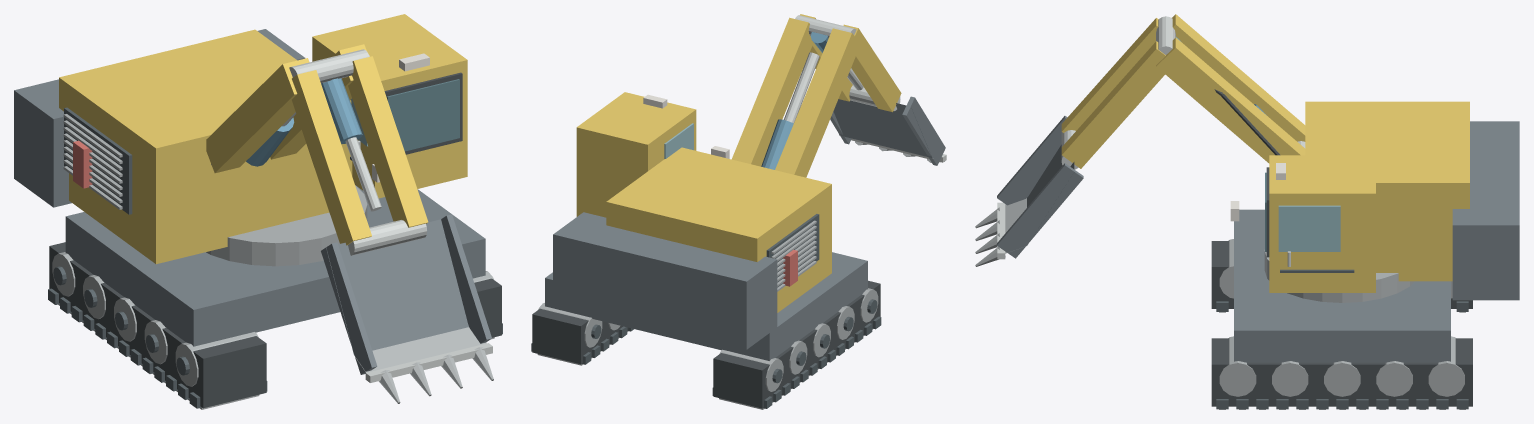
Rendered from excavator.glb.
3 renders of one model, left to right at view 1: azimuth 30°, elevation 25°; view 2: azimuth 150°, elevation 25°; view 3: azimuth 270°, elevation 25°, orthographic. The views are drawn at different scales.
Parts seen in each view (by area): view 1: Machinery house side panels, Undercarriage steel chassis, Stick and dipper arm (×2), Rock bucket curved back, Operator cab steel shell, Crawler track rubber belt (×2), Rear counterweight, Welded tapered lifting boom (×2), Bucket sidewall (×2), Slew ring, Tinted laminated windshield, Track road wheel (×5) (+10 smaller); view 2: Rear counterweight, Machinery house side panels, Welded tapered lifting boom (×2), Operator cab steel shell, Crawler track rubber belt (×2), Undercarriage steel chassis, Rock bucket curved back, Track road wheel (×6), Stick and dipper arm, Bucket sidewall, Boom polished ram, Ventilation panel (+4 smaller); view 3: Machinery house side panels, Undercarriage steel chassis, Operator cab steel shell, Rear counterweight, Welded tapered lifting boom (×2), Crawler track rubber belt (×2), Stick and dipper arm (×2), Track road wheel (×6), Bucket sidewall (×2), Cab side window, Slew ring, Rock bucket curved back (+1 smaller).
Boxes of the visible parts, bbox=[...] form: Machinery house side panels: bbox=[59, 29, 352, 264]; Undercarriage steel chassis: bbox=[65, 186, 485, 346]; Stick and dipper arm (×2): bbox=[292, 56, 428, 245]; Rock bucket curved back: bbox=[326, 219, 468, 354]; Operator cab steel shell: bbox=[312, 14, 467, 198]; Crawler track rubber belt (×2): bbox=[49, 242, 501, 408]; Rear counterweight: bbox=[14, 29, 305, 207]; Welded tapered lifting boom (×2): bbox=[206, 44, 366, 173]; Bucket sidewall (×2): bbox=[321, 214, 491, 374]; Slew ring: bbox=[206, 185, 367, 266]; Tinted laminated windshield: bbox=[387, 79, 459, 151]; Track road wheel (×5): bbox=[52, 252, 258, 386]; Rear counterweight: bbox=[553, 212, 777, 349]; Machinery house side panels: bbox=[606, 147, 831, 312]; Welded tapered lifting boom (×2): bbox=[731, 17, 860, 177]; Operator cab steel shell: bbox=[576, 92, 696, 217]; Crawler track rubber belt (×2): bbox=[532, 280, 880, 408]; Undercarriage steel chassis: bbox=[545, 252, 867, 360]; Rock bucket curved back: bbox=[833, 99, 931, 157]; Track road wheel (×6): bbox=[538, 288, 878, 391]; Stick and dipper arm: bbox=[843, 24, 901, 112]; Bucket sidewall: bbox=[902, 96, 945, 165]; Boom polished ram: bbox=[783, 52, 819, 123]; Ventilation panel: bbox=[766, 214, 819, 287]; Machinery house side panels: bbox=[1305, 101, 1469, 281]; Undercarriage steel chassis: bbox=[1234, 209, 1450, 362]; Operator cab steel shell: bbox=[1269, 155, 1375, 292]; Rear counterweight: bbox=[1452, 121, 1519, 300]; Welded tapered lifting boom (×2): bbox=[1156, 14, 1305, 163]; Crawler track rubber belt (×2): bbox=[1211, 241, 1472, 406]; Stick and dipper arm (×2): bbox=[1061, 18, 1165, 168]; Track road wheel (×6): bbox=[1219, 239, 1464, 396]; Bucket sidewall (×2): bbox=[997, 116, 1083, 258]; Cab side window: bbox=[1278, 205, 1340, 251]; Slew ring: bbox=[1264, 250, 1414, 302]; Rock bucket curved back: bbox=[1027, 144, 1074, 245].
Bounding box in the file's own units: 3.11 × 3.33 × 5.53.
